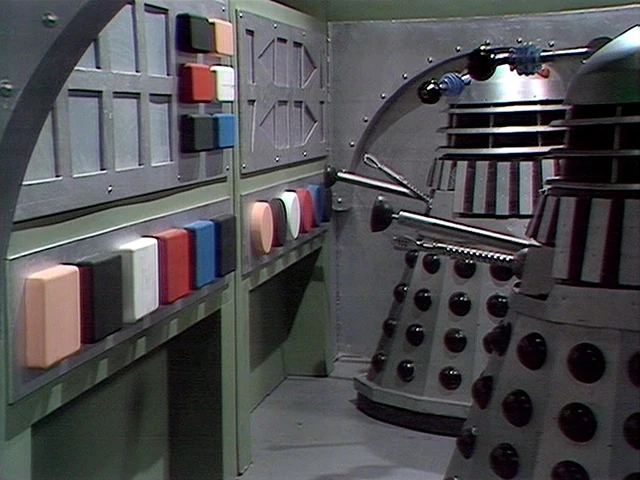Dalek: (351, 27, 640, 480)
